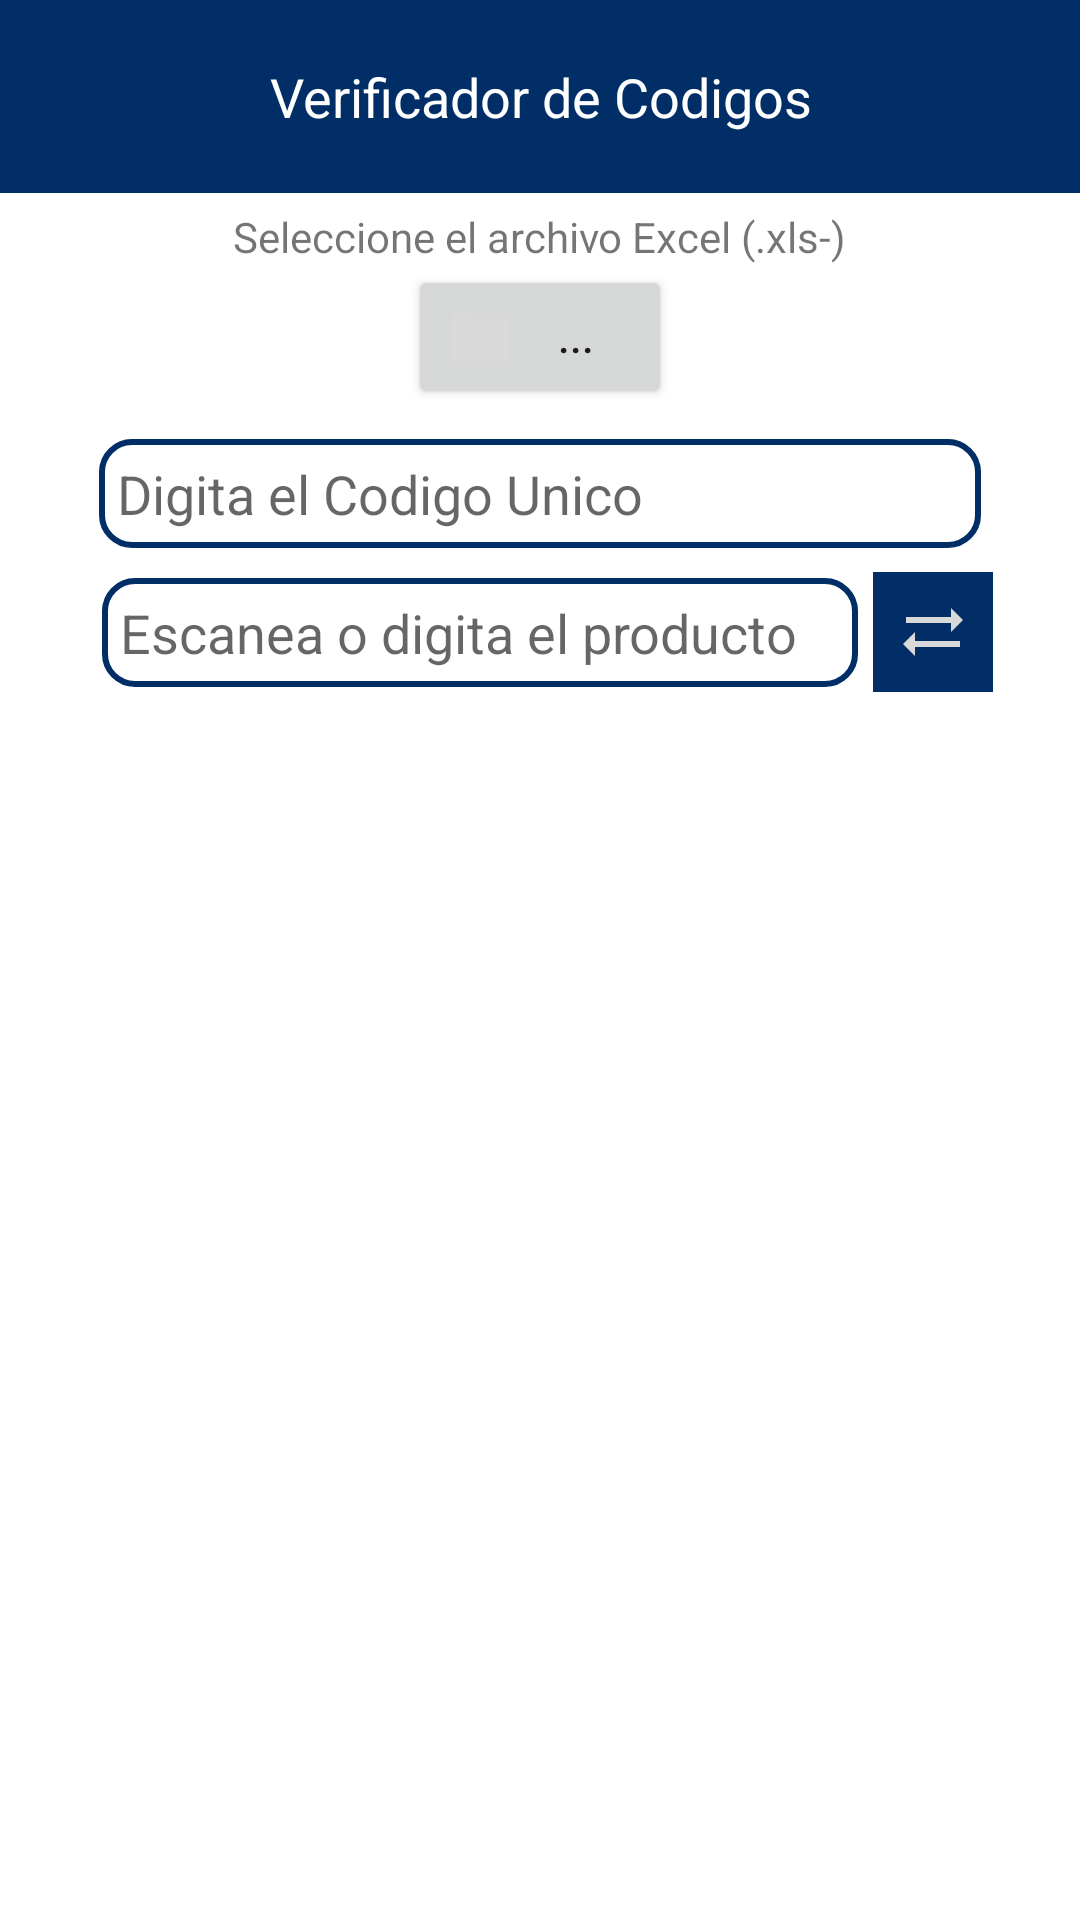

Icon click points for this 1080*1920 phone screenshot, format point (x, y):
sync: point (933, 632)
